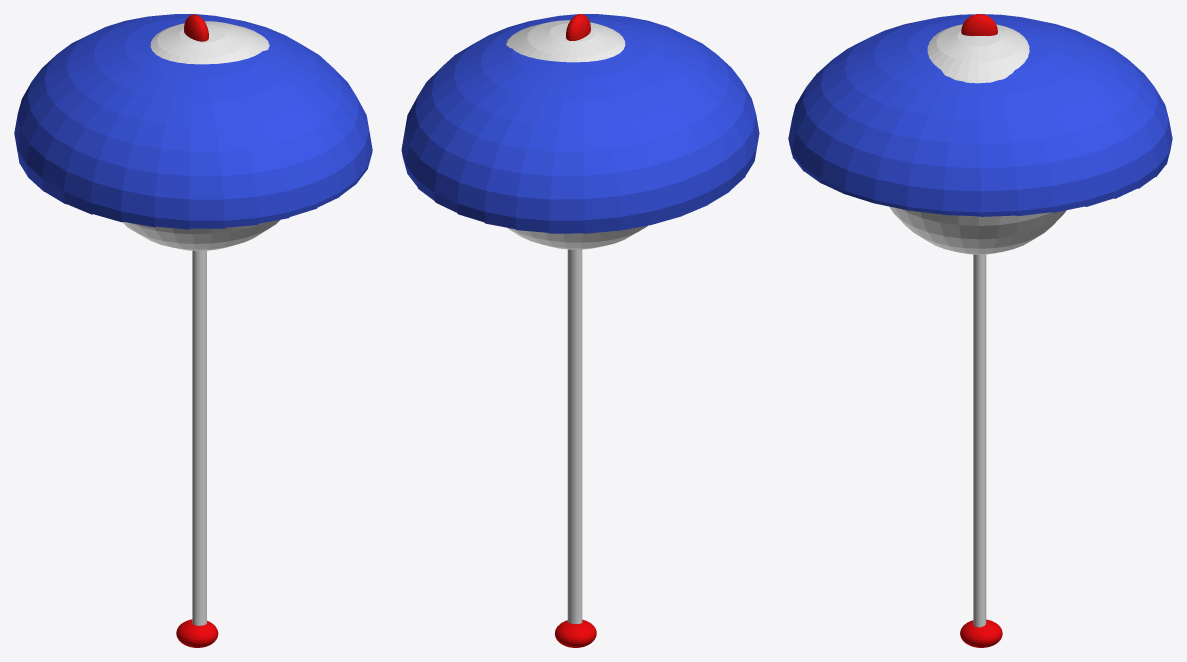
File: umbrella.glb
3 renders of one model, left to right at view 1: azimuth 30°, elevation 25°; view 2: azimuth 150°, elevation 25°; view 3: azimuth 270°, elevation 25°, orthographic.
Parts seen in each view (by area): view 1: Sphere, Sphere.003, Cylinder, Sphere.002, Sphere.001; view 2: Sphere, Cylinder, Sphere.003, Sphere.002, Sphere.001; view 3: Sphere, Sphere.003, Cylinder, Sphere.002, Sphere.001.
Part boxes in pixels (<box>): Sphere: <box>14,14,372,229</box>; Sphere.003: <box>122,21,280,250</box>; Cylinder: <box>192,250,206,625</box>; Sphere.002: <box>176,619,218,647</box>; Sphere.001: <box>184,14,208,41</box>; Sphere: <box>401,14,759,233</box>; Cylinder: <box>567,249,582,624</box>; Sphere.003: <box>506,20,647,249</box>; Sphere.002: <box>555,619,596,647</box>; Sphere.001: <box>566,14,590,40</box>; Sphere: <box>788,14,1172,216</box>; Sphere.003: <box>889,24,1066,254</box>; Cylinder: <box>973,254,986,627</box>; Sphere.002: <box>960,619,1002,647</box>; Sphere.001: <box>961,14,997,35</box>.
Bounding box in the file's own units: 35.03 × 69.71 × 38.57.
